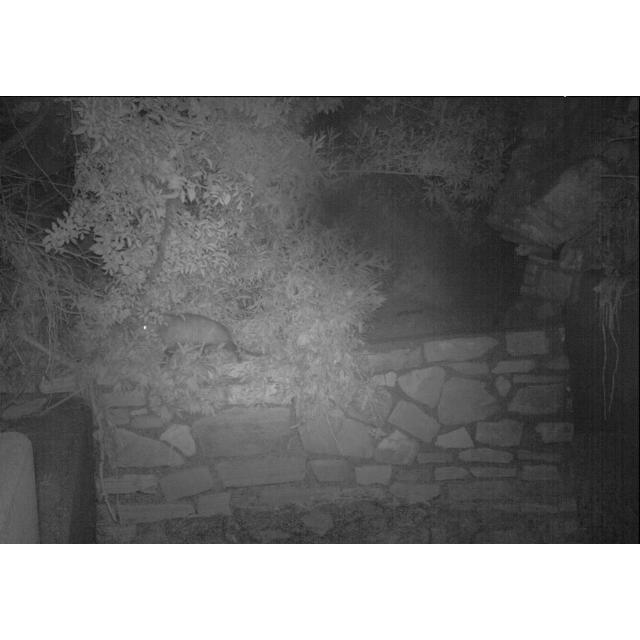animals: (134, 308, 270, 360)
